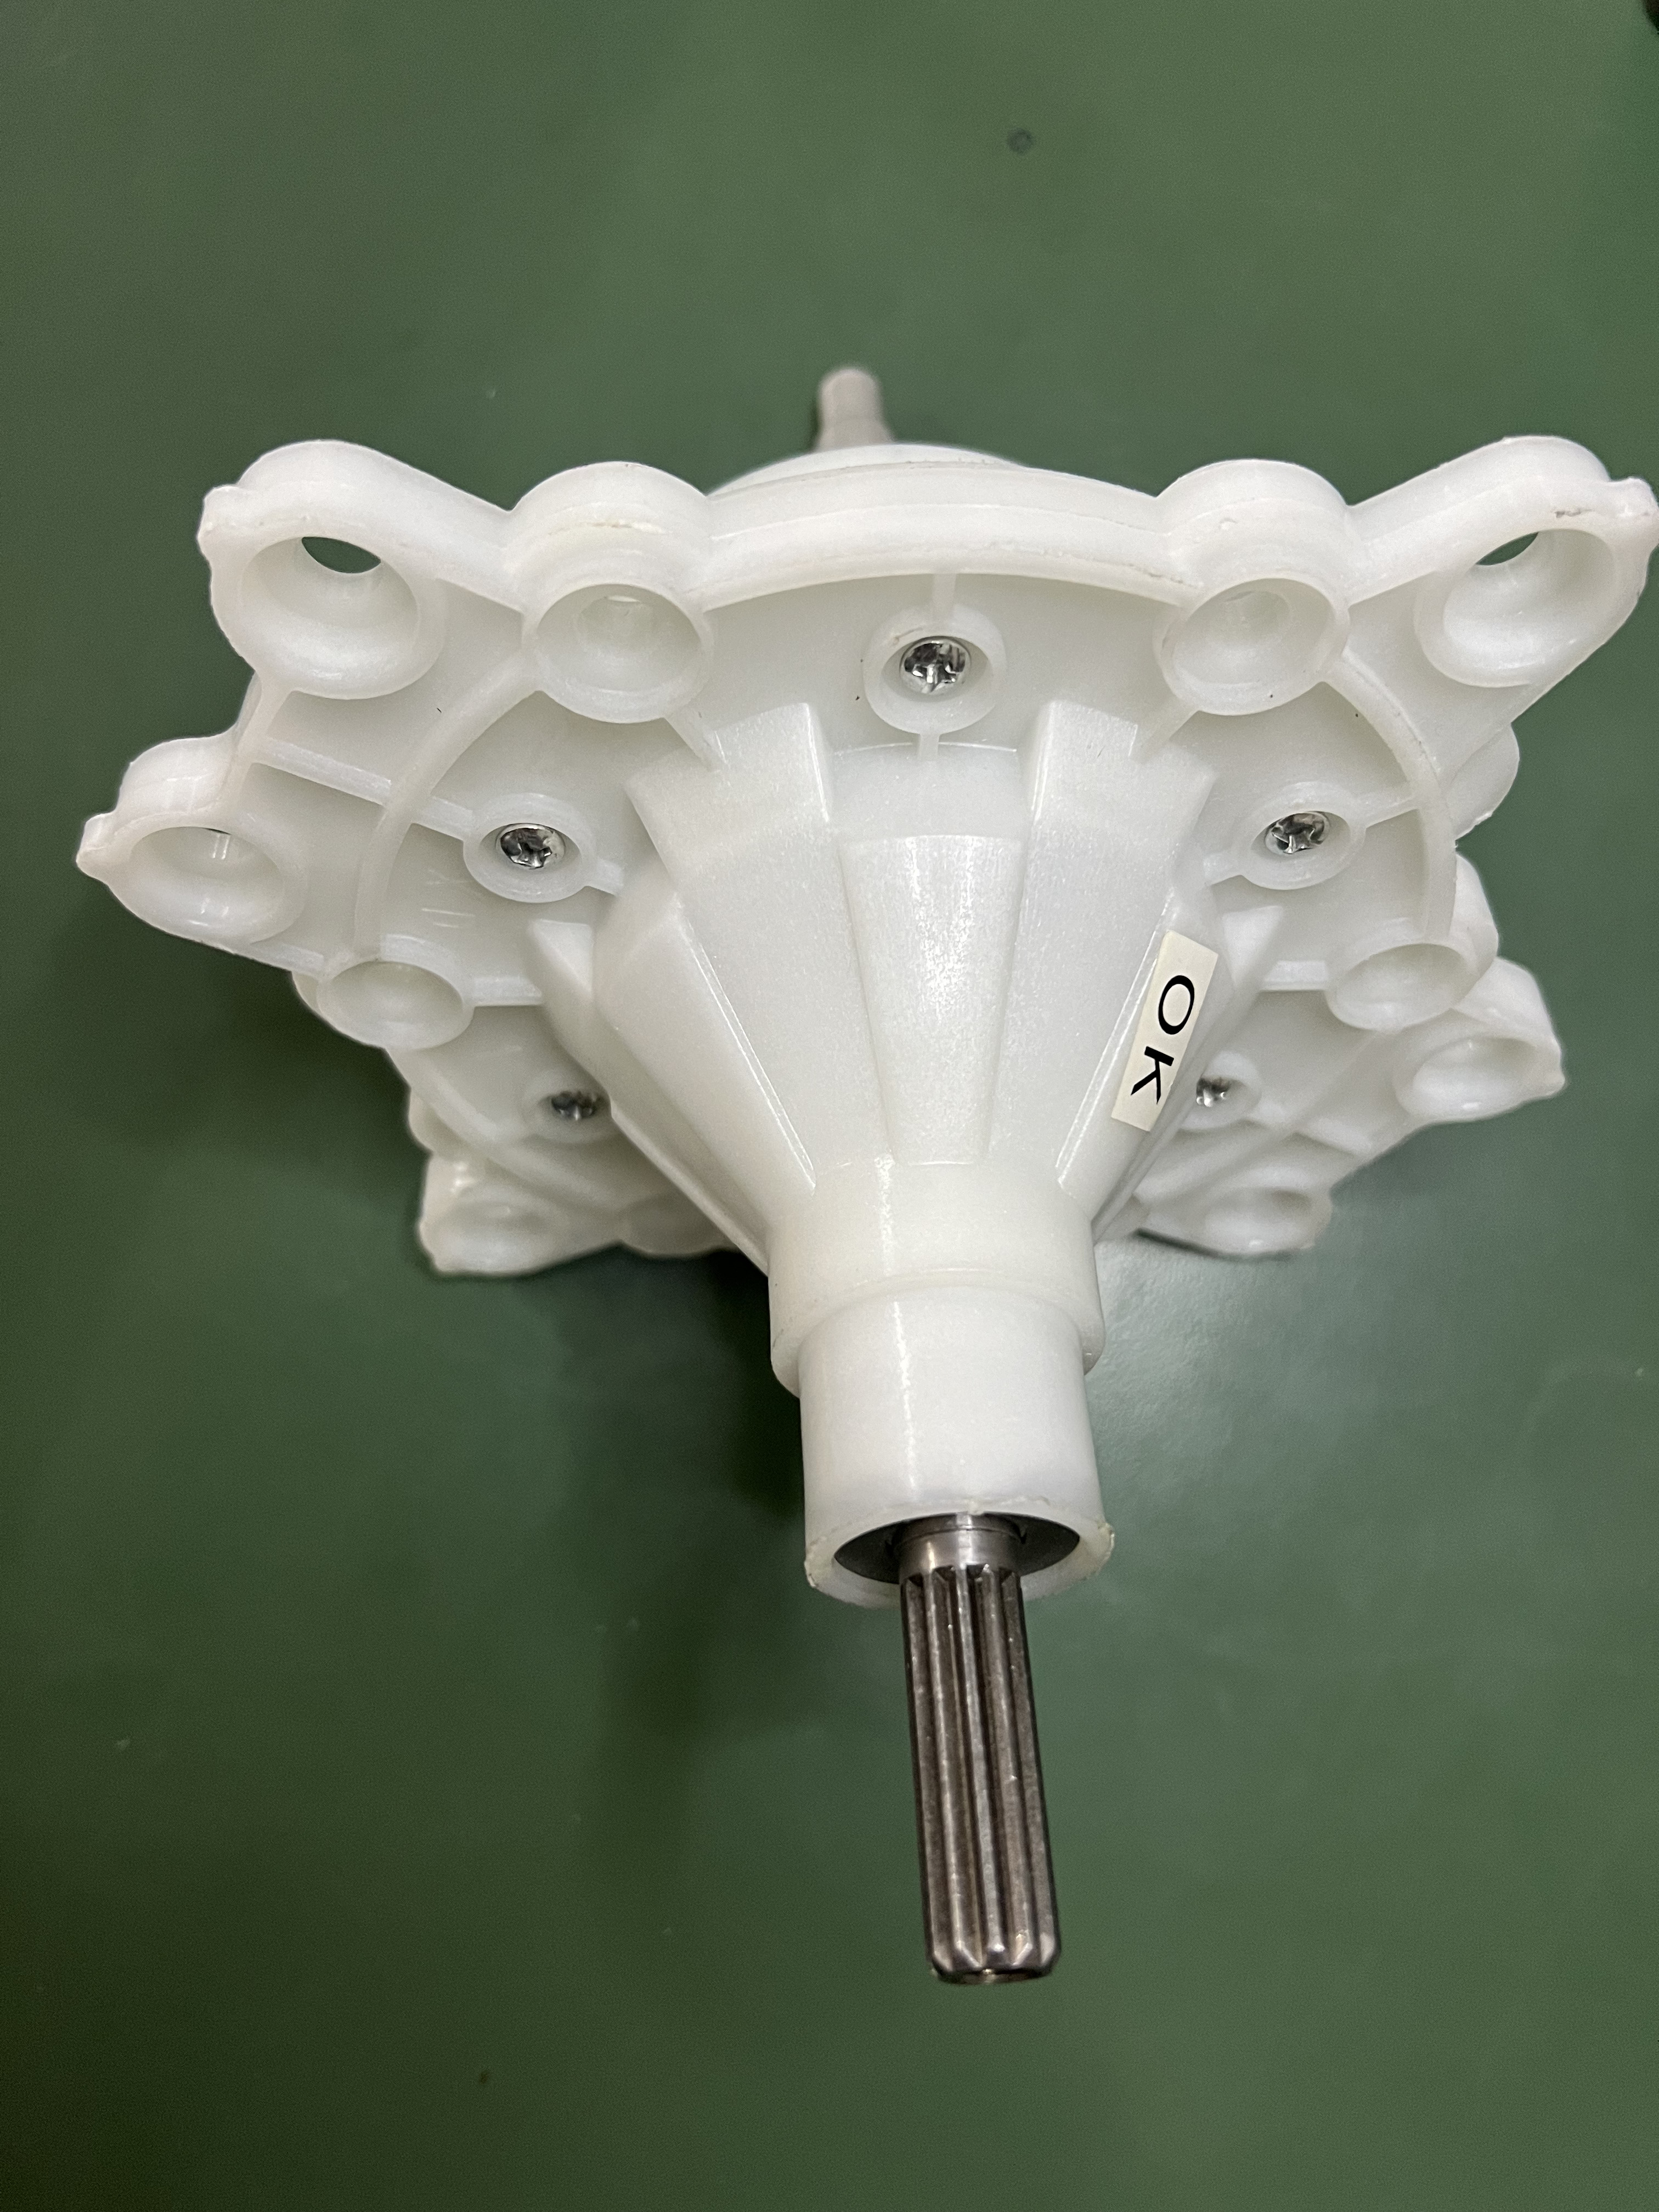gear_box_design: (52, 411, 1593, 1972)
